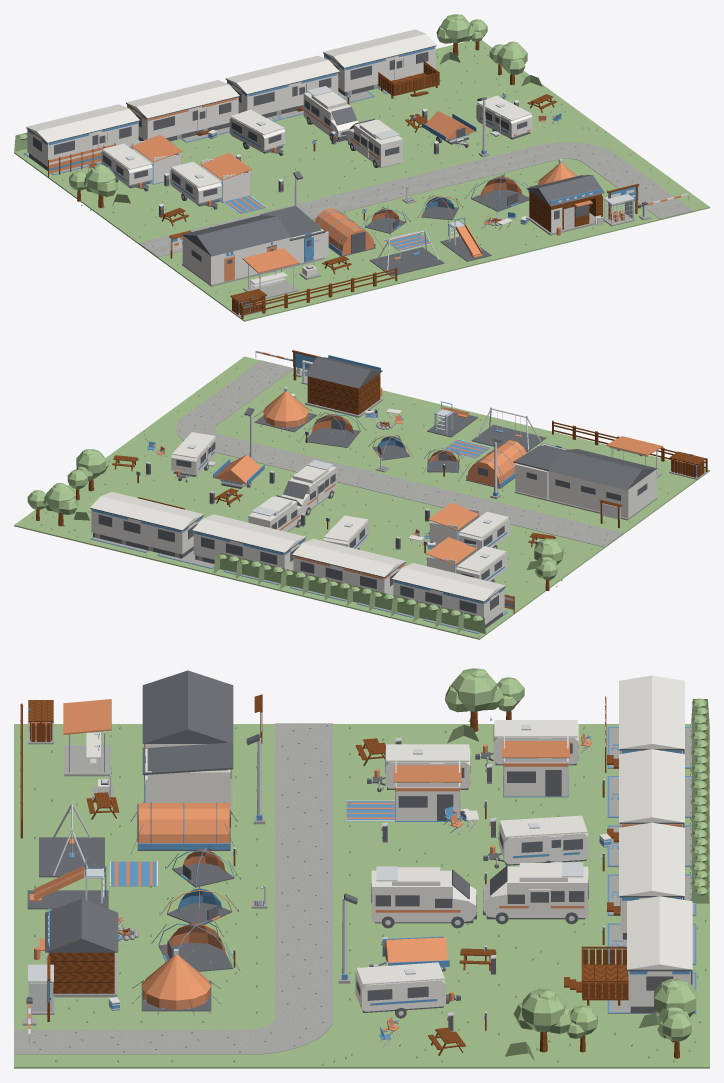
3 views of the same model, one above another, from view 1: azimuth 30°, elevation 25°; view 2: azimuth 150°, elevation 25°; view 3: azimuth 270°, elevation 25° (orthographic). The views are drawn at different scales.
Visible parts, largest first — view 1: 067-static-caravan-with-decking/static-caravan-with-decking- (×3), 065-static-caravan-sunset-livery/static-caravan-sunset-liver (×2), 064-static-caravan/static-caravan-shell, 066-static-caravan/static-caravan-shell, 111-shower-and-toilet-block/shower-and-toilet-block-charcoal, 017-grass-pitch-tile/grass-pitch-tile-grass, 014-grass-pitch-tile/grass-pitch-tile-grass, 031-grass-pitch-tile/grass-pitch-tile-grass, 111-shower-and-toilet-block/shower-and-toilet-block-shell, 012-grass-pitch-tile/grass-pitch-tile-grass, 016-grass-pitch-tile/grass-pitch-tile-grass, 028-grass-pitch-tile/grass-pitch-tile-grass (+63 smaller); view 2: 067-static-caravan-with-decking/static-caravan-with-decking- (×2), 065-static-caravan-sunset-livery/static-caravan-sunset-liver (×2), 064-static-caravan/static-caravan-shell, 066-static-caravan/static-caravan-shell, 111-shower-and-toilet-block/shower-and-toilet-block-charcoal, 111-shower-and-toilet-block/shower-and-toilet-block-shell, 133-site-shop-and-reception/site-shop-and-reception-timber, 020-grass-pitch-tile/grass-pitch-tile-grass, 031-grass-pitch-tile/grass-pitch-tile-grass, 016-grass-pitch-tile/grass-pitch-tile-grass, 017-grass-pitch-tile/grass-pitch-tile-grass, 006-grass-pitch-tile/grass-pitch-tile-grass (+76 smaller); view 3: 067-static-caravan-with-decking/static-caravan-with-decking- (×3), 111-shower-and-toilet-block/shower-and-toilet-block-charcoal, 016-grass-pitch-tile/grass-pitch-tile-grass, 020-grass-pitch-tile/grass-pitch-tile-grass, 011-grass-pitch-tile/grass-pitch-tile-grass, 066-static-caravan/static-caravan-shell, 006-grass-pitch-tile/grass-pitch-tile-grass, 065-static-caravan-sunset-livery/static-caravan-sunset-liver, 064-static-caravan/static-caravan-shell, 028-grass-pitch-tile/grass-pitch-tile-grass, 084-campervan/campervan-shell, 013-grass-pitch-tile/grass-pitch-tile-grass (+84 smaller).
Part boxes in pixels (left/top/right/bottom): 067-static-caravan-with-decking/static-caravan-with-decking- (×3): left=323, top=29, right=439, bottom=98; 065-static-caravan-sunset-livery/static-caravan-sunset-liver (×2): left=126, top=80, right=239, bottom=141; 064-static-caravan/static-caravan-shell: left=26, top=104, right=139, bottom=166; 066-static-caravan/static-caravan-shell: left=225, top=55, right=339, bottom=114; 111-shower-and-toilet-block/shower-and-toilet-block-charcoal: left=182, top=215, right=291, bottom=261; 017-grass-pitch-tile/grass-pitch-tile-grass: left=290, top=145, right=394, bottom=187; 014-grass-pitch-tile/grass-pitch-tile-grass: left=90, top=192, right=194, bottom=236; 031-grass-pitch-tile/grass-pitch-tile-grass: left=472, top=213, right=576, bottom=256; 111-shower-and-toilet-block/shower-and-toilet-block-shell: left=182, top=235, right=290, bottom=284; 012-grass-pitch-tile/grass-pitch-tile-grass: left=385, top=82, right=477, bottom=125; 016-grass-pitch-tile/grass-pitch-tile-grass: left=249, top=159, right=328, bottom=203; 028-grass-pitch-tile/grass-pitch-tile-grass: left=284, top=262, right=377, bottom=305; 067-static-caravan-with-decking/static-caravan-with-decking- (×2): left=90, top=492, right=203, bottom=558; 065-static-caravan-sunset-livery/static-caravan-sunset-liver (×2): left=292, top=538, right=405, bottom=594; 064-static-caravan/static-caravan-shell: left=392, top=563, right=505, bottom=624; 066-static-caravan/static-caravan-shell: left=192, top=514, right=305, bottom=570; 111-shower-and-toilet-block/shower-and-toilet-block-charcoal: left=549, top=449, right=656, bottom=500; 111-shower-and-toilet-block/shower-and-toilet-block-shell: left=548, top=469, right=656, bottom=518; 133-site-shop-and-reception/site-shop-and-reception-timber: left=307, top=373, right=380, bottom=414; 020-grass-pitch-tile/grass-pitch-tile-grass: left=105, top=441, right=173, bottom=484; 031-grass-pitch-tile/grass-pitch-tile-grass: left=340, top=390, right=443, bottom=433; 016-grass-pitch-tile/grass-pitch-tile-grass: left=369, top=505, right=433, bottom=549; 017-grass-pitch-tile/grass-pitch-tile-grass: left=305, top=491, right=394, bottom=527; 006-grass-pitch-tile/grass-pitch-tile-grass: left=14, top=503, right=91, bottom=542; 067-static-caravan-with-decking/static-caravan-with-decking- (×3): left=564, top=896, right=692, bottom=1012; 111-shower-and-toilet-block/shower-and-toilet-block-charcoal: left=142, top=670, right=233, bottom=743; 016-grass-pitch-tile/grass-pitch-tile-grass: left=362, top=822, right=477, bottom=870; 020-grass-pitch-tile/grass-pitch-tile-grass: left=362, top=1018, right=477, bottom=1068; 011-grass-pitch-tile/grass-pitch-tile-grass: left=478, top=920, right=593, bottom=968; 066-static-caravan/static-caravan-shell: left=619, top=822, right=684, bottom=932; 006-grass-pitch-tile/grass-pitch-tile-grass: left=594, top=1018, right=709, bottom=1068; 065-static-caravan-sunset-livery/static-caravan-sunset-liver: left=619, top=749, right=684, bottom=827; 064-static-caravan/static-caravan-shell: left=619, top=675, right=684, bottom=753; 028-grass-pitch-tile/grass-pitch-tile-grass: left=14, top=773, right=129, bottom=821; 084-campervan/campervan-shell: left=371, top=867, right=476, bottom=922; 013-grass-pitch-tile/grass-pitch-tile-grass: left=478, top=1018, right=593, bottom=1068.
Size of the model in its own units: 42.94 by 5.02 by 36.
Materials: 8 (2 with a texture image).
